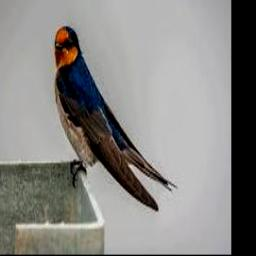Swallow: (55, 26, 178, 211)
